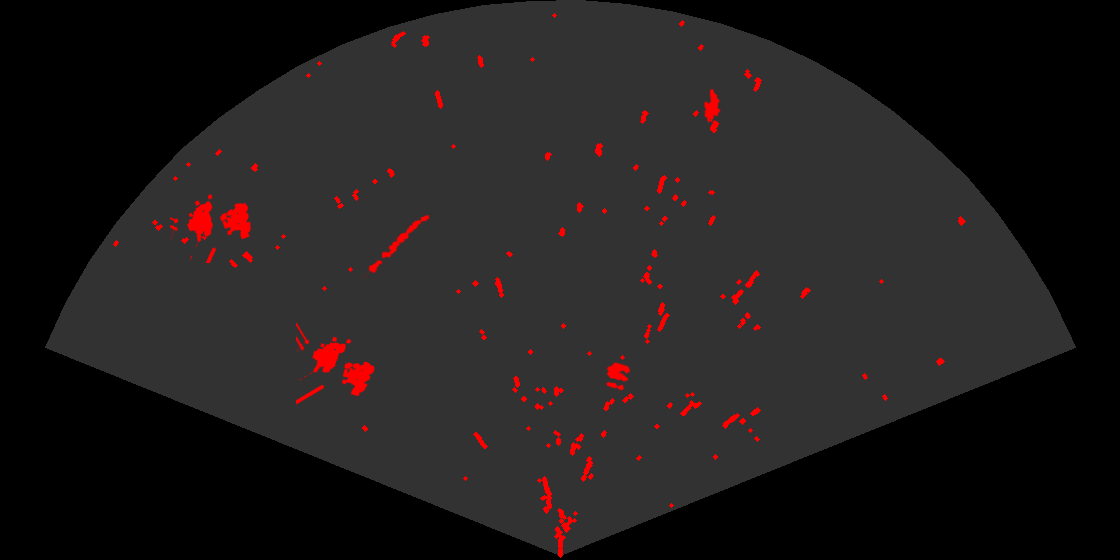AUV: (702, 87, 722, 124)
ball: (604, 361, 632, 392)
cage: (296, 321, 376, 406), (170, 193, 253, 263)
chain: (360, 213, 431, 279)
